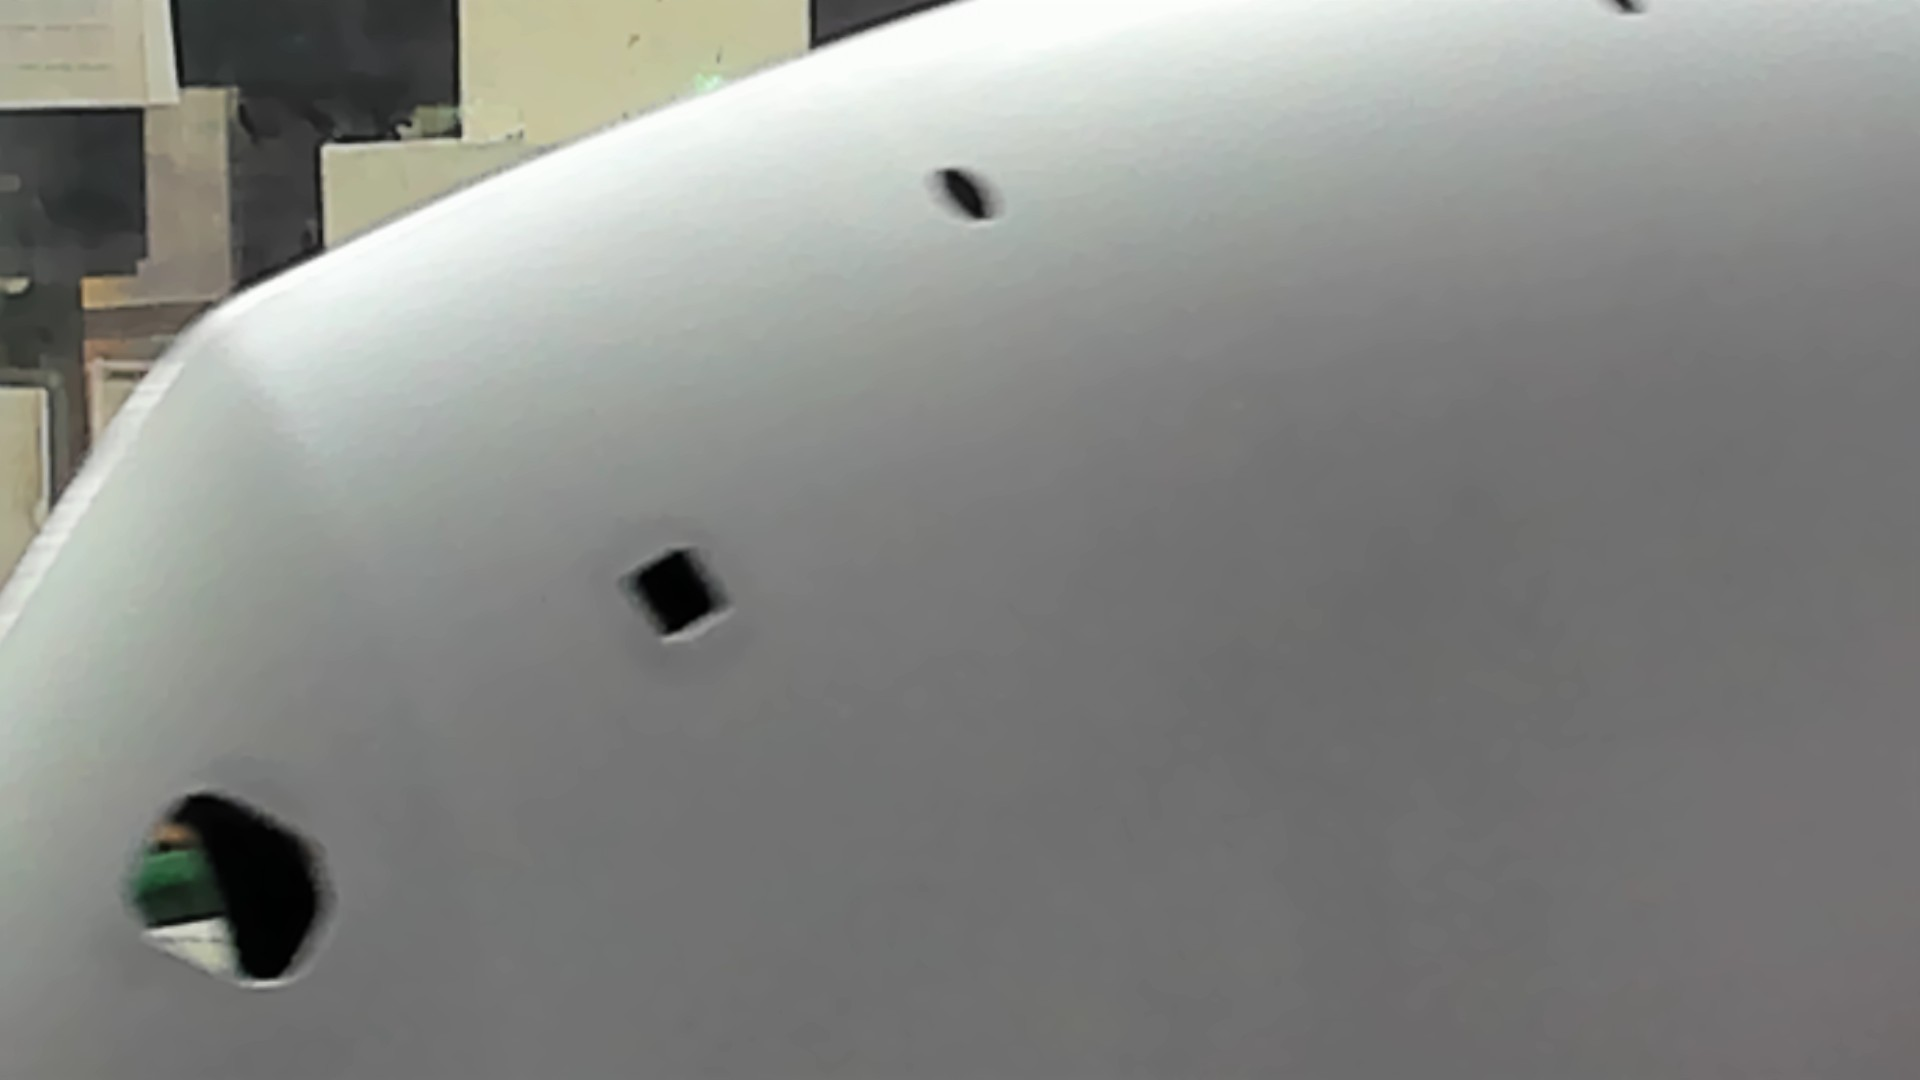chico: (924, 158, 1013, 243)
grande: (94, 775, 360, 997)
mediano: (604, 527, 748, 670)
